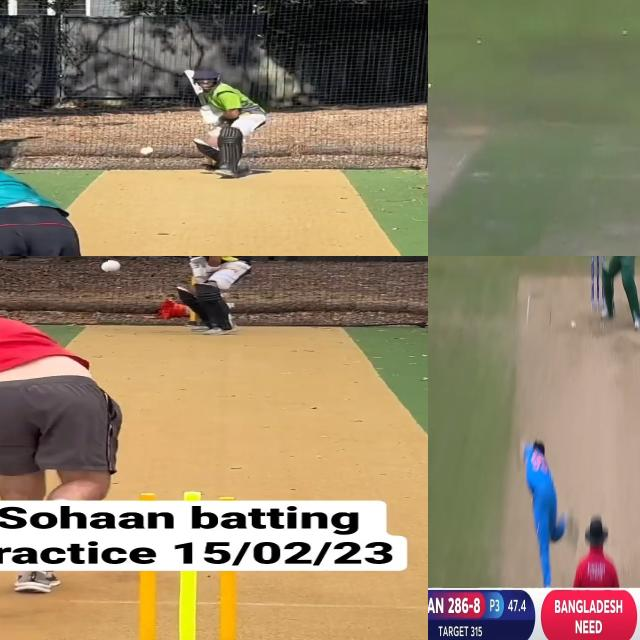Cricket ball: (100, 260, 122, 273), (139, 146, 155, 156), (571, 320, 577, 330), (428, 79, 433, 90)
Stumps: (120, 569, 256, 640), (590, 256, 604, 313)
